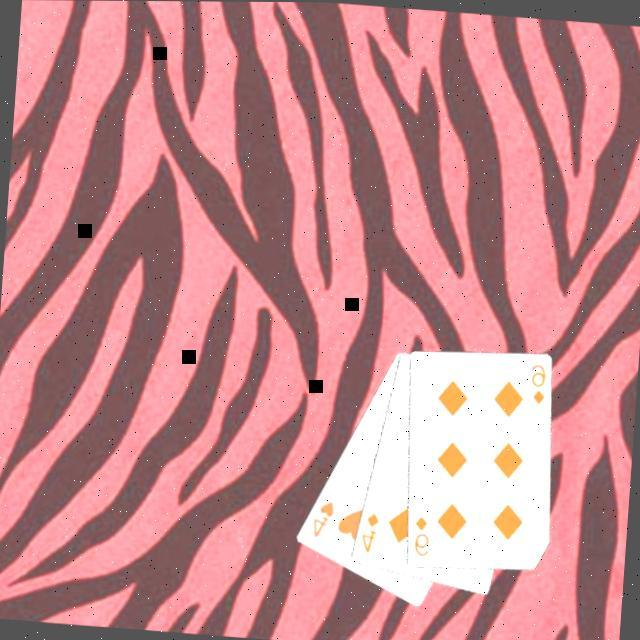4D: (356, 510, 380, 558)
4H: (307, 497, 336, 543)
6D: (408, 514, 432, 561), (524, 362, 548, 408)
